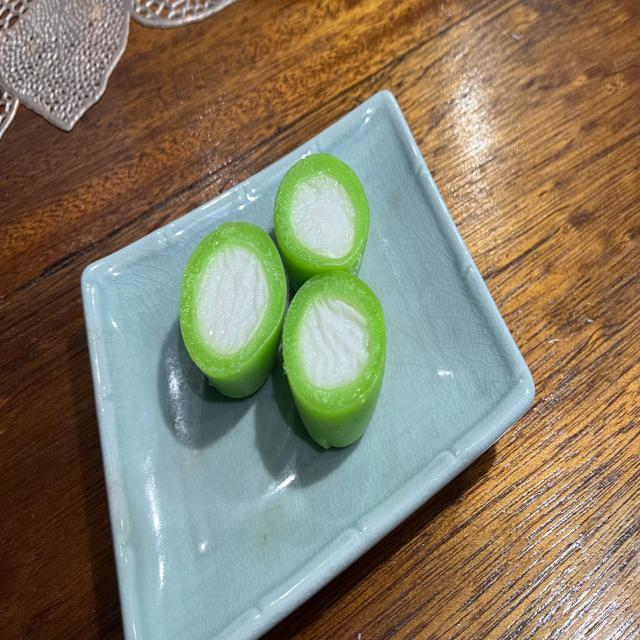nona-manis: (180, 222, 286, 398), (282, 271, 386, 449), (274, 153, 370, 289)
